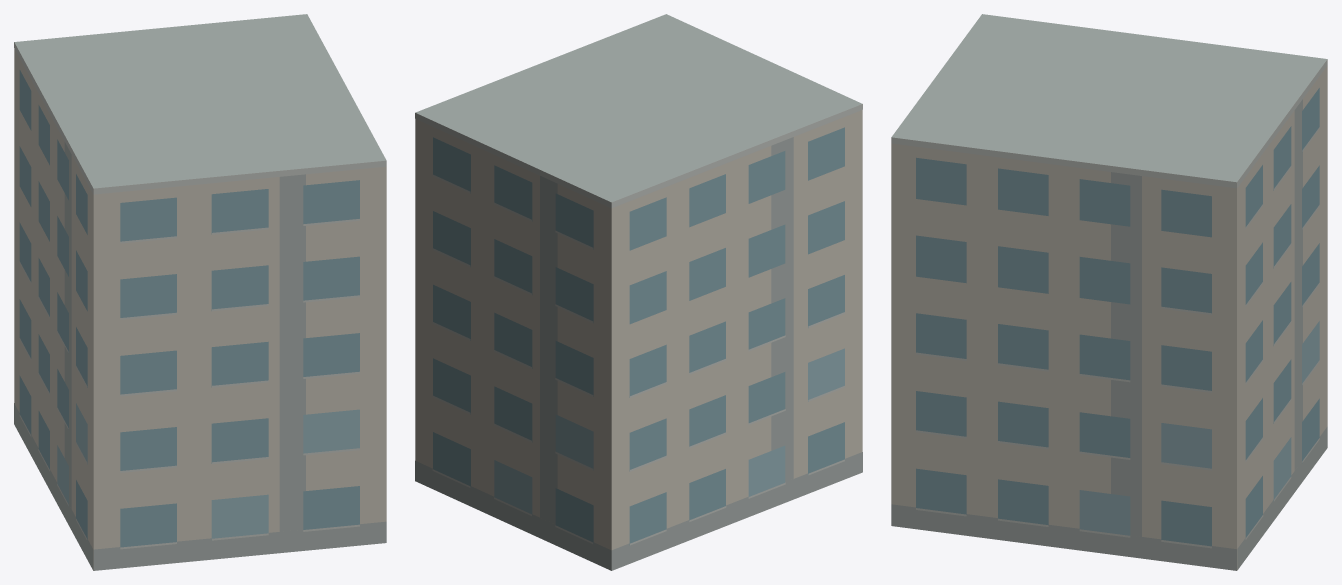
The model's file is survey-upis-32839098.glb.
The picture shows the model from 3 angles, left to right: view 1: azimuth 30°, elevation 25°; view 2: azimuth 150°, elevation 25°; view 3: azimuth 270°, elevation 25°; orthographic projection. The views are drawn at different scales.
Parts seen in each view (by area): view 1: survey-upis-32839098.tmp; view 2: survey-upis-32839098.tmp; view 3: survey-upis-32839098.tmp.
Part boxes in pixels (x1=…): survey-upis-32839098.tmp: x1=14, y1=14, x2=386, y2=570; survey-upis-32839098.tmp: x1=415, y1=14, x2=862, y2=570; survey-upis-32839098.tmp: x1=891, y1=14, x2=1327, y2=570.
Size of the model in its own units: 14.31 by 15.4 by 15.68.
